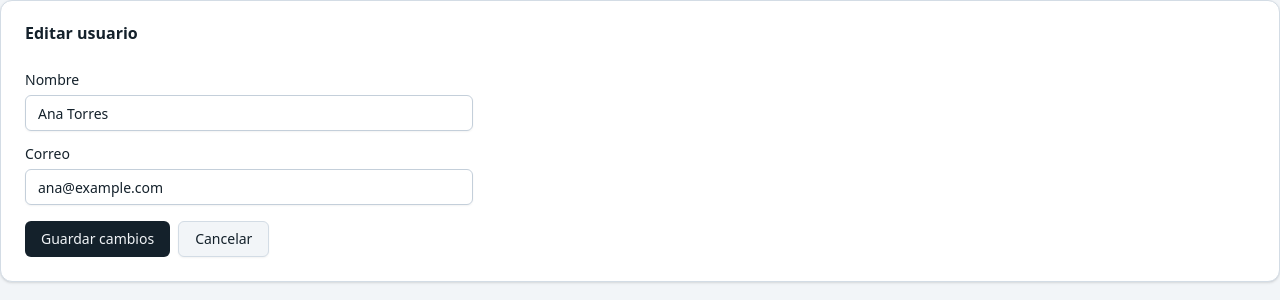
Test: editar usuario › precarga el usuario, guarda los cambios y vuelve al listado
Expected: the field labelled "Correo" holds "ana@example.com", [25, 169, 473, 205]
Replace the text in the field labelled "Nombre" with "Ana María": (249, 113) [25, 95, 473, 131]
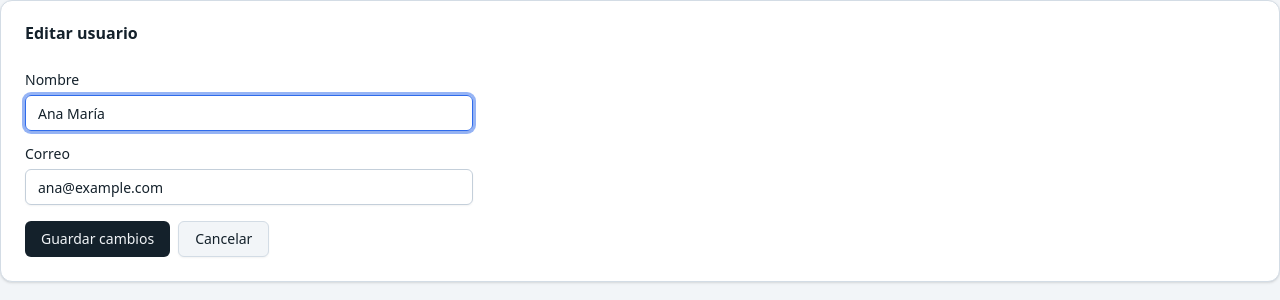
Click the button "Guardar cambios": (98, 239) [25, 221, 170, 257]
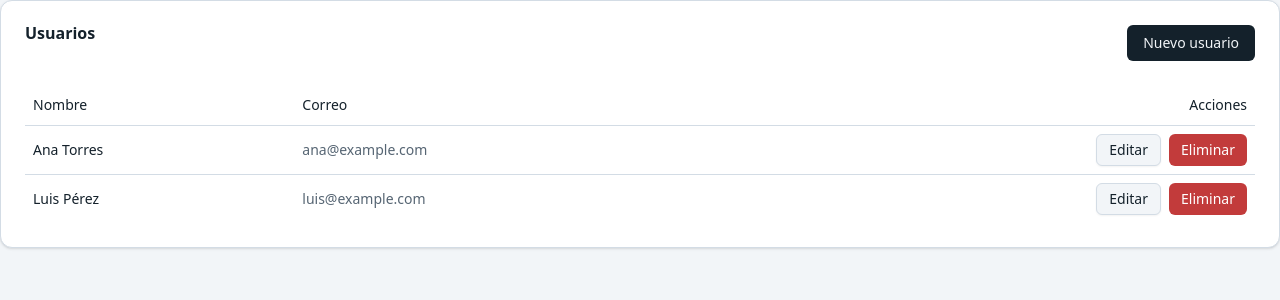
Expected: the text "Usuarios" is shown, [25, 22, 95, 44]
